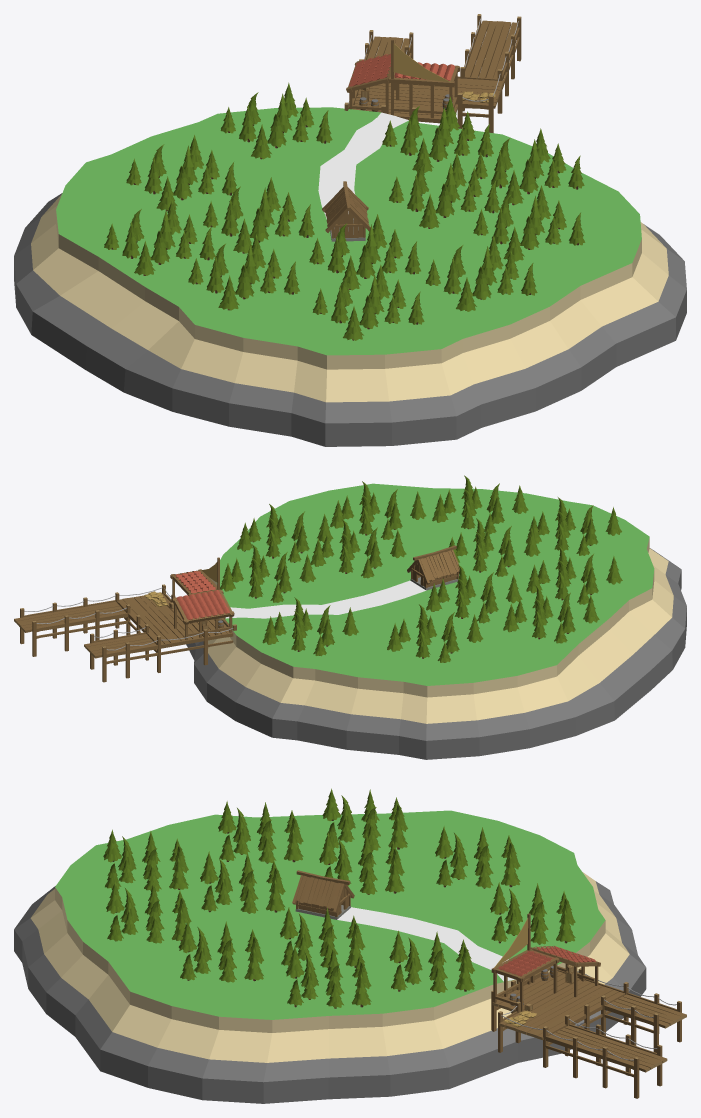
File: Island1.glb
3 views of the same model, one above another, from view 1: azimuth 30°, elevation 25°; view 2: azimuth 150°, elevation 25°; view 3: azimuth 270°, elevation 25° (orthographic). The views are drawn at different scales.
Parts seen in each view (by area): view 1: Island1, Port_SecondAge_Level1, Resource_PineTree_Group.002, Resource_PineTree_Group.006, Resource_PineTree_Group.005, Resource_PineTree_Group.001, Resource_PineTree_Group.010, Resource_PineTree_Group.004, Resource_PineTree_Group.009, Resource_PineTree_Group, Resource_PineTree_Group.003, Resource_PineTree_Group.011 (+4 smaller); view 2: Island1, Port_SecondAge_Level1, Path, Resource_PineTree_Group.005, Resource_PineTree_Group.001, Resource_PineTree_Group, Resource_PineTree_Group.011, Resource_PineTree_Group.004, Resource_PineTree_Group.003, Resource_PineTree_Group.002, Resource_PineTree_Group.009, Resource_PineTree_Group.008 (+4 smaller); view 3: Island1, Port_SecondAge_Level1, Path, Resource_PineTree_Group.011, Resource_PineTree_Group.003, Resource_PineTree_Group.006, Resource_PineTree_Group.002, Resource_PineTree_Group, Resource_PineTree_Group.008, Resource_PineTree_Group.007, Resource_PineTree_Group.010, Resource_PineTree_Group.009 (+4 smaller).
Part boxes in pixels (x1,y1,x2,y2): Island1: [14, 107, 686, 446]; Port_SecondAge_Level1: [344, 14, 521, 133]; Resource_PineTree_Group.002: [220, 82, 332, 159]; Resource_PineTree_Group.006: [188, 234, 299, 310]; Resource_PineTree_Group.005: [104, 199, 215, 275]; Resource_PineTree_Group.001: [389, 153, 499, 228]; Resource_PineTree_Group.010: [312, 264, 424, 340]; Resource_PineTree_Group.004: [203, 177, 314, 253]; Resource_PineTree_Group.009: [425, 235, 537, 311]; Resource_PineTree_Group: [382, 96, 493, 172]; Resource_PineTree_Group.003: [126, 135, 236, 211]; Resource_PineTree_Group.011: [475, 128, 584, 205]; Island1: [186, 483, 686, 759]; Port_SecondAge_Level1: [14, 557, 236, 682]; Path: [225, 580, 426, 618]; Resource_PineTree_Group.005: [503, 585, 599, 643]; Resource_PineTree_Group.001: [310, 519, 406, 578]; Resource_PineTree_Group: [220, 544, 315, 602]; Resource_PineTree_Group.011: [237, 504, 333, 562]; Resource_PineTree_Group.004: [426, 564, 522, 623]; Resource_PineTree_Group.003: [387, 604, 483, 662]; Resource_PineTree_Group.002: [262, 597, 358, 656]; Resource_PineTree_Group.009: [432, 475, 528, 533]; Resource_PineTree_Group.008: [330, 481, 426, 539]; Island1: [14, 810, 646, 1103]; Port_SecondAge_Level1: [491, 913, 686, 1098]; Path: [337, 907, 514, 981]; Resource_PineTree_Group.011: [286, 946, 371, 1008]; Resource_PineTree_Group.003: [435, 826, 520, 888]; Resource_PineTree_Group.006: [218, 801, 303, 863]; Resource_PineTree_Group.002: [490, 882, 575, 944]; Resource_PineTree_Group: [389, 930, 474, 992]; Resource_PineTree_Group.008: [178, 920, 263, 982]; Resource_PineTree_Group.007: [200, 851, 285, 913]; Resource_PineTree_Group.010: [103, 829, 188, 891]; Resource_PineTree_Group.009: [106, 881, 191, 943].
Size of the model in its own units: 13.23 by 2.96 by 13.52.
